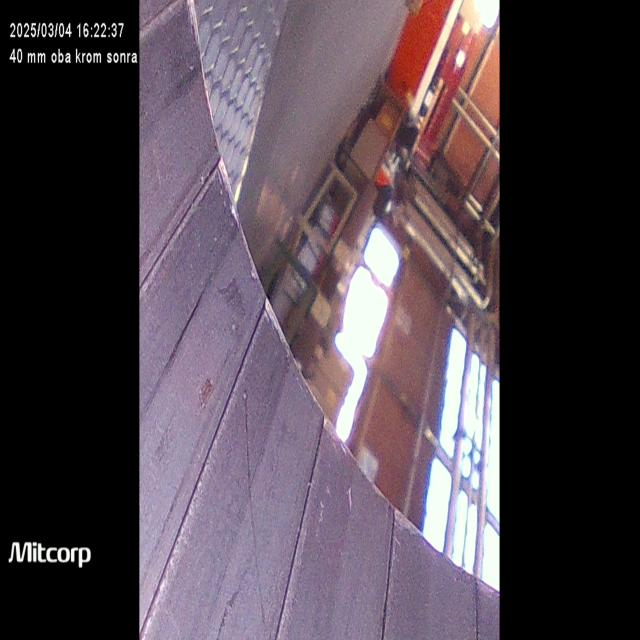hata_4.2: (198, 370, 220, 420)
